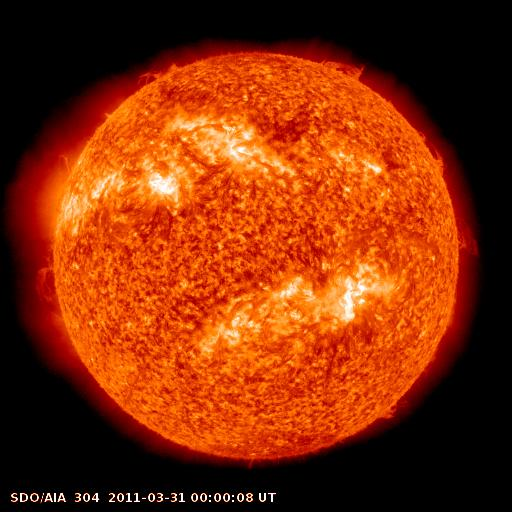prominence: (25, 259, 75, 344), (311, 47, 375, 91), (409, 122, 455, 176), (130, 58, 186, 93), (366, 393, 419, 427), (454, 214, 486, 263)
